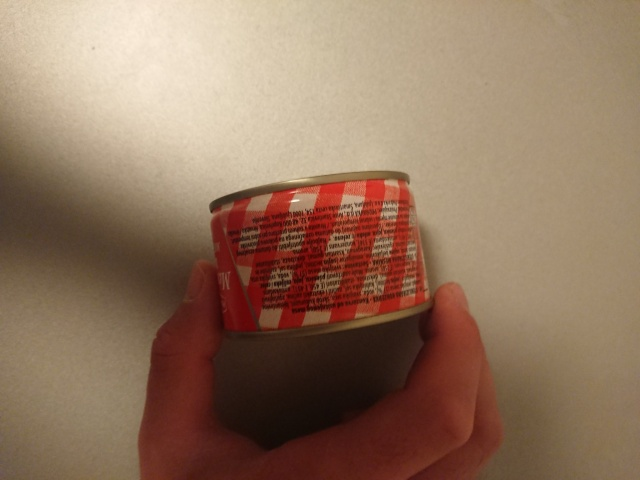Podravka Luncheon Meat 150g: (207, 168, 439, 344)
